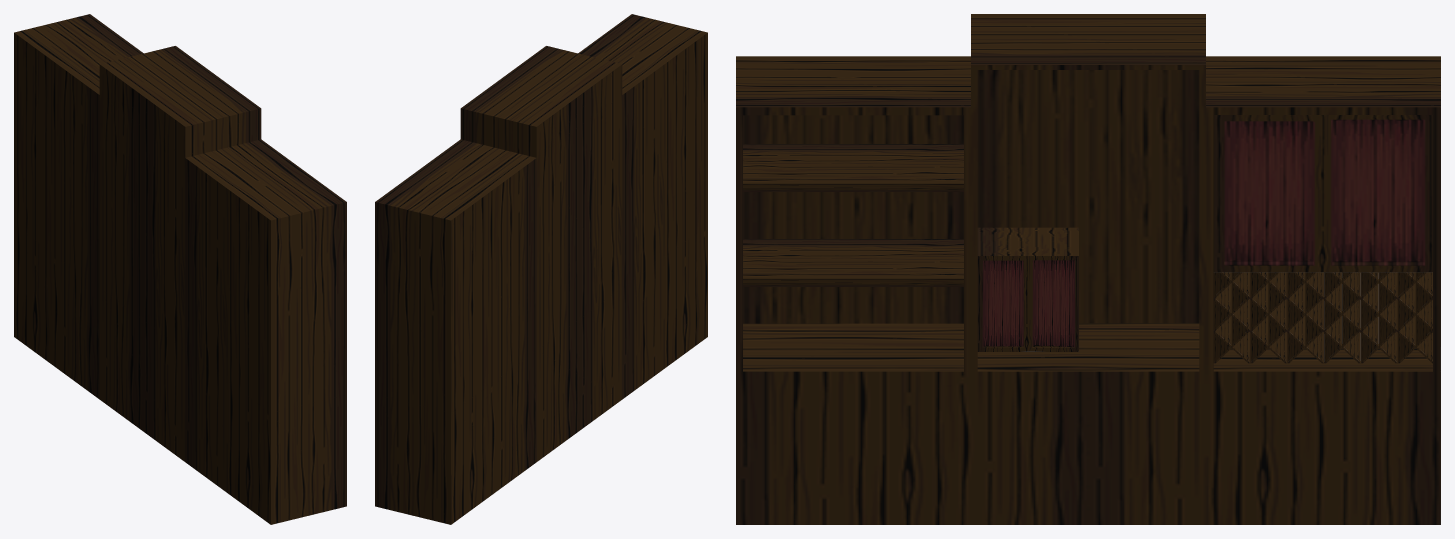
Rendered from DrinkCabinet.fbx.
3 renders of one model, left to right at view 1: azimuth 30°, elevation 25°; view 2: azimuth 150°, elevation 25°; view 3: azimuth 270°, elevation 25°, orthographic. The views are drawn at different scales.
Visible parts, largest first — view 1: DrinkCabinet; view 2: DrinkCabinet; view 3: DrinkCabinet.
Part boxes in pixels (left/top/right/bottom): DrinkCabinet: left=14, top=14, right=346, bottom=524; DrinkCabinet: left=375, top=14, right=707, bottom=524; DrinkCabinet: left=736, top=14, right=1440, bottom=524.
Size of the model in its own units: 0.3064 by 1.79 by 1.29.
1 material, 1 textured.
